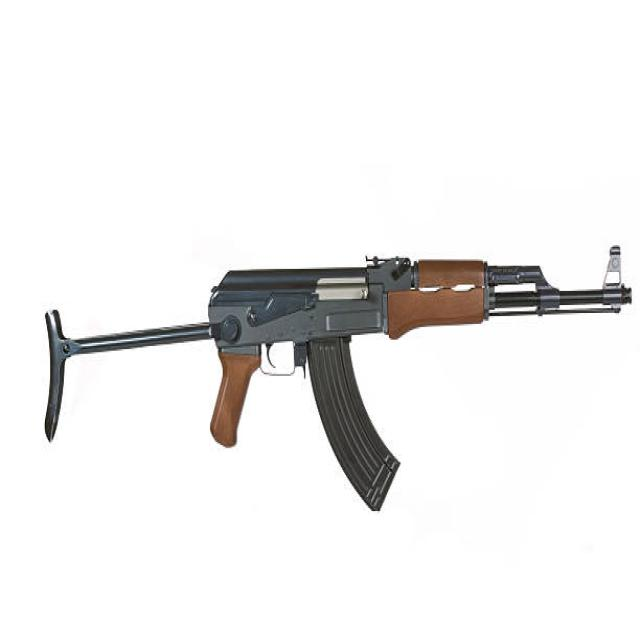rifle: (36, 239, 635, 519)
